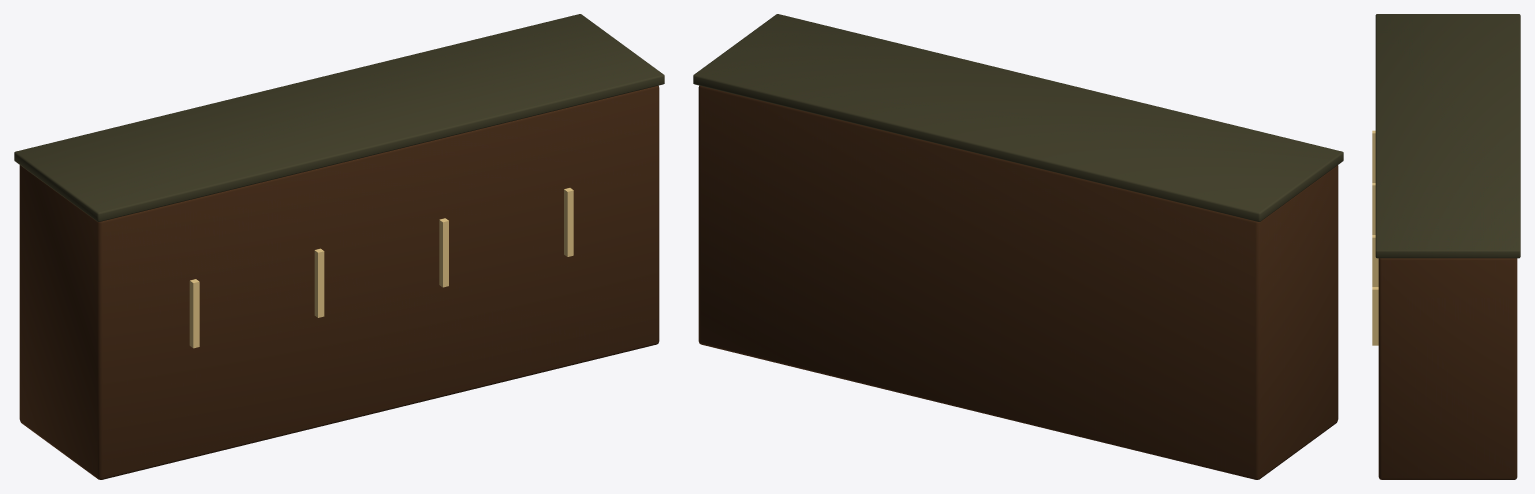
File: fur_sideboard.glb
The picture shows the model from 3 angles, left to right: view 1: azimuth 30°, elevation 25°; view 2: azimuth 150°, elevation 25°; view 3: azimuth 270°, elevation 25°; orthographic projection. The views are drawn at different scales.
Visible parts, largest first — view 1: FUR_sideboard; view 2: FUR_sideboard; view 3: FUR_sideboard.
Part boxes in pixels (x1,y1,x2,y2): FUR_sideboard: (14, 14, 664, 479); FUR_sideboard: (693, 14, 1343, 479); FUR_sideboard: (1372, 14, 1520, 479).
Size of the model in its own units: 1.82 by 0.83 by 0.48.
2 materials, 1 textured.
